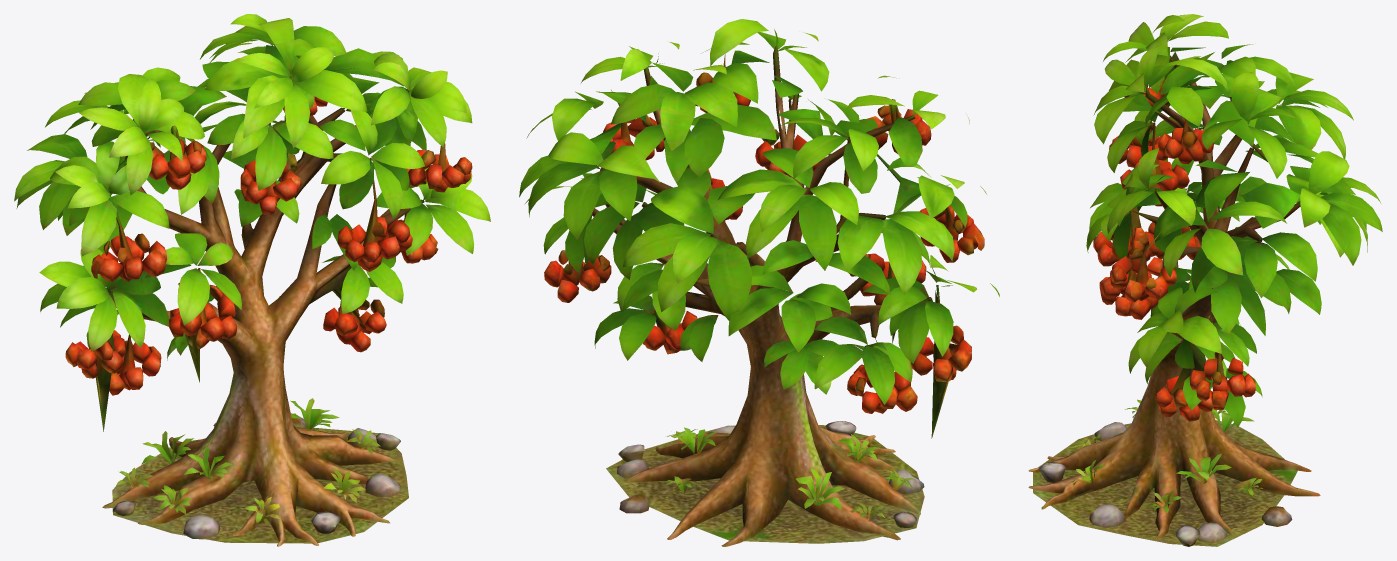
File: pohon-rambutan.glb
3 views of the same model, side by side, from view 1: azimuth 30°, elevation 25°; view 2: azimuth 150°, elevation 25°; view 3: azimuth 270°, elevation 25° (orthographic). The views are drawn at different scales.
Visible parts, largest first — view 1: pohon; view 2: pohon; view 3: pohon.
Part boxes in pixels (left/top/right/bottom): pohon: left=14, top=14, right=490, bottom=546; pohon: left=519, top=19, right=999, bottom=546; pohon: left=1028, top=14, right=1382, bottom=546.
Size of the model in its own units: 0.9995 by 0.9995 by 0.7407.
Materials: 1 (1 with a texture image).
